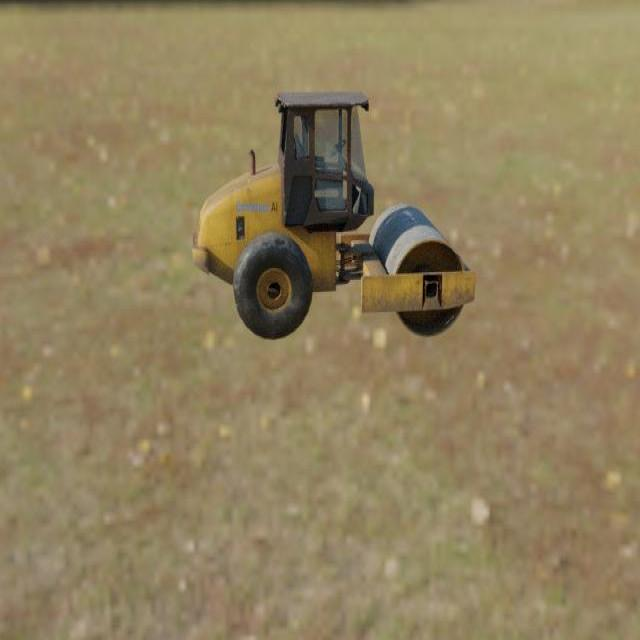Roller: (192, 91, 476, 340)
